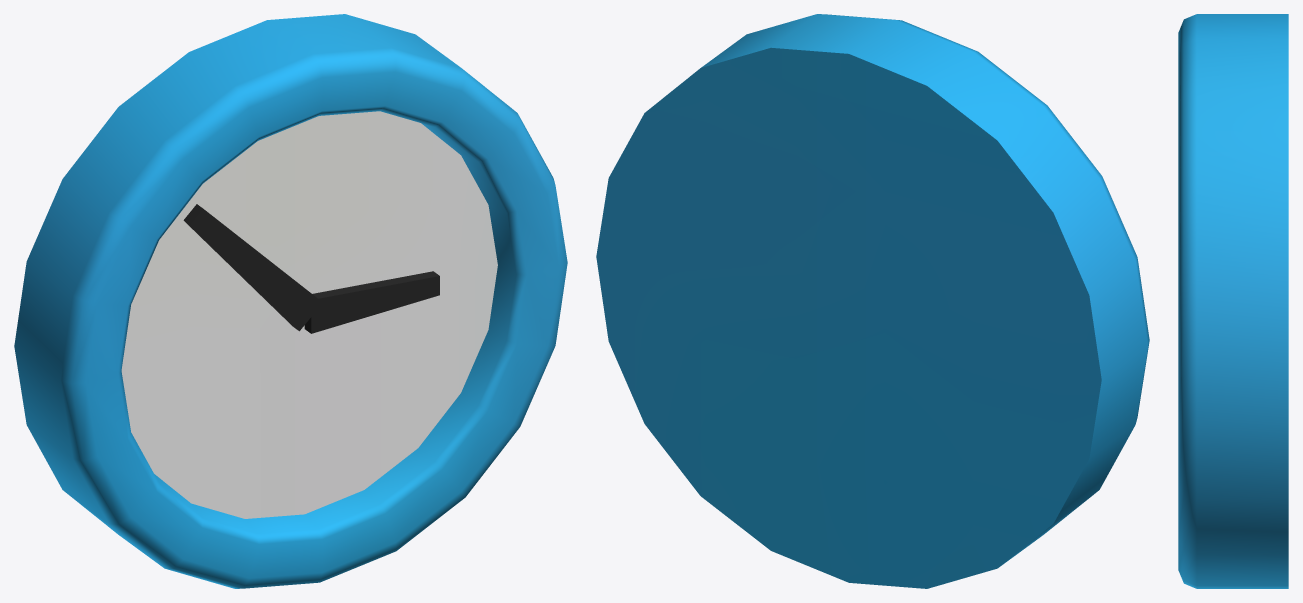
File: Clock.fbx
3 renders of one model, left to right at view 1: azimuth 30°, elevation 25°; view 2: azimuth 150°, elevation 25°; view 3: azimuth 270°, elevation 25°, orthographic.
Visible parts, largest first — view 1: Clock; view 2: Clock; view 3: Clock.
Part boxes in pixels (<box>): Clock: <box>14,14,567,588</box>; Clock: <box>596,14,1149,588</box>; Clock: <box>1178,14,1288,588</box>.
Bounding box in the file's own units: 85.79 × 85.79 × 16.3.
